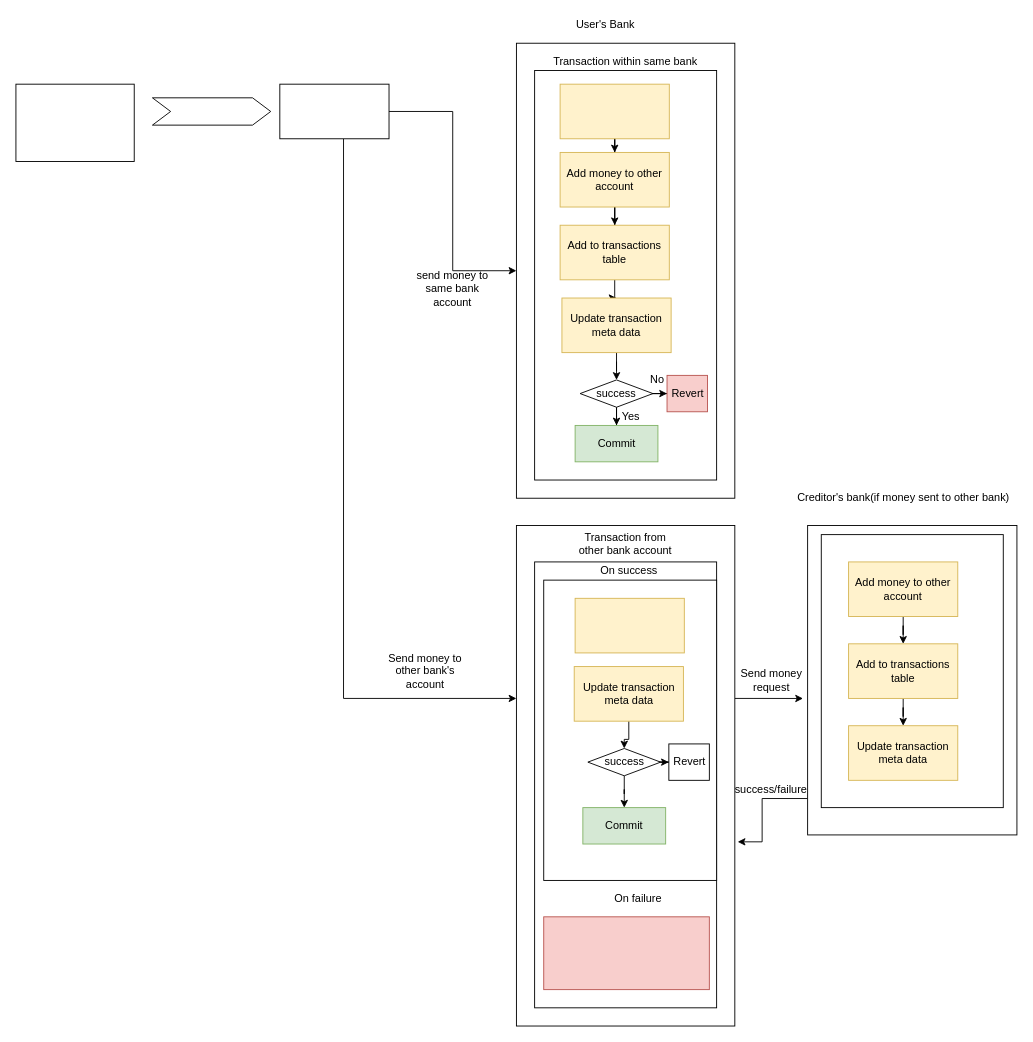
This 1033x1042 diagram has some shape labels left out. The shapes that lost their labels are listed below. From the top down, each one's centre as x and y in pixels, then its label:
At point 74,122: "Token based API login".
At point 334,111: "Send Money".
At point 614,111: "Deduct from account".
At point 629,625: "Subtract from account".
At point 626,953: "Failed transaction update the transaction table and mark as failure".
